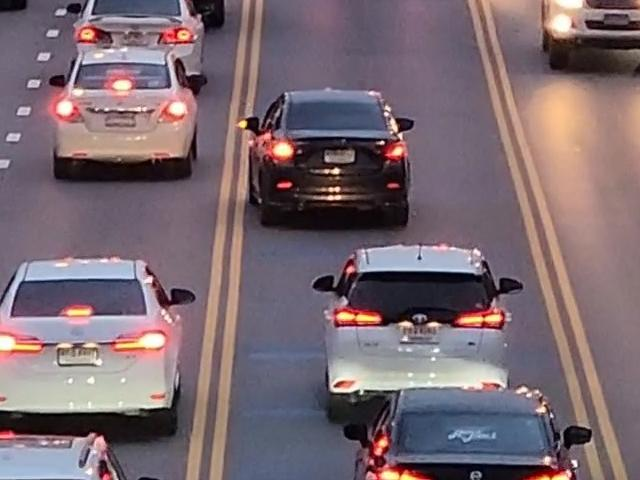car: (313, 242, 523, 428), (0, 255, 206, 428), (243, 88, 423, 238), (43, 48, 210, 182), (360, 384, 590, 480), (56, 0, 213, 81), (536, 0, 640, 61)
